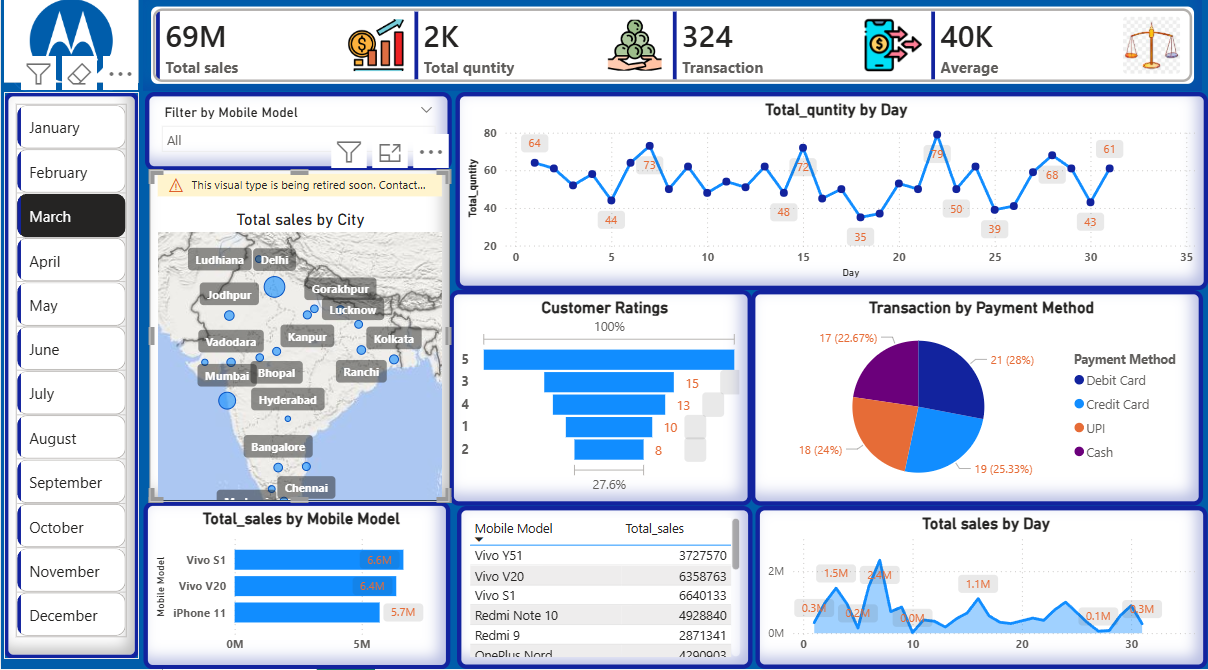

What the dashboard file says about the page in this screenshot:
{"tool":"powerbi","page":{"name":"mobile sale","canvas":[1280,720],"ordinal":0},"visuals":[{"type":"shape","box":[11.5,4.9,119.7,103.3],"z":0},{"type":"image","box":[3.3,9.8,142.6,88.5],"z":1000},{"type":"advancedSlicerVisual","fields":{"Values":["sales.Dates.Variation.Date Hierarchy.Month"]},"box":[3.2,108.2,143.2,601.3],"z":2000},{"type":"cardVisual","fields":{"Data":["sales.Total_sales","sales.Total_quntity","sales.Transaction","sales.Average"]},"box":[150.8,10.2,1122,98.3],"z":3000},{"type":"map","fields":{"Size":["sales.Total_sales"],"Category":["sales.City"]},"box":[157.6,191.5,318.6,350.8],"z":4000},{"type":"lineChart","fields":{"Category":["sales.Dates.Variation.Date Hierarchy.Month","sales.Dates.Variation.Date Hierarchy.Day"],"Y":["sales.Total_quntity"]},"box":[481.4,108.5,798.3,210.2],"z":5000},{"type":"clusteredBarChart","fields":{"Category":["sales.Mobile Model"],"Y":["sales.Total_sales"]},"box":[150.8,542.4,325.4,178],"z":6000},{"type":"pieChart","fields":{"Category":["sales.Payment Method"],"Y":["sales.Transaction"]},"box":[794.9,318.6,479.7,228.8],"z":7000},{"type":"funnel","title":"Customer Ratings ","fields":{"Category":["sales.Customer Ratings"],"Y":["CountNonNull(sales.Customer Ratings)"]},"box":[476.3,318.6,320.3,228.8],"z":8000},{"type":"areaChart","title":"Total sales by Day ","fields":{"Category":["sales.Dates.Variation.Date Hierarchy.Day"],"Y":["sales.Total_sales"]},"box":[800,547.5,479.7,172.9],"z":9000},{"type":"tableEx","fields":{"Values":["sales.Mobile Model","sales.Total_sales"]},"box":[483.1,547.5,313.6,172.9],"z":10000},{"type":"slicer","fields":{"Values":["sales.Mobile Model"]},"box":[152.5,108.5,325.4,83.1],"z":11000}]}

Visuals, with their boxes in screenshot pixels (x1, y1, x2, y2):
shape: bbox(8, 0, 122, 90)
image: bbox(0, 0, 136, 81)
advancedSlicerVisual - sales.Dates.Variation.Date Hierarchy.Month: bbox(0, 90, 136, 663)
cardVisual - sales.Total_sales x sales.Total_quntity: bbox(140, 0, 1207, 91)
map - sales.Total_sales x sales.City: bbox(147, 170, 450, 503)
lineChart - sales.Dates.Variation.Date Hierarchy.Month x sales.Dates.Variation.Date Hierarchy.Day: bbox(455, 91, 1207, 291)
clusteredBarChart - sales.Mobile Model x sales.Total_sales: bbox(140, 504, 450, 669)
pieChart - sales.Payment Method x sales.Transaction: bbox(753, 291, 1207, 508)
"Customer Ratings " funnel: bbox(450, 291, 755, 508)
"Total sales by Day " areaChart: bbox(758, 508, 1207, 669)
tableEx - sales.Mobile Model x sales.Total_sales: bbox(457, 508, 755, 669)
slicer - sales.Mobile Model: bbox(142, 91, 452, 170)
